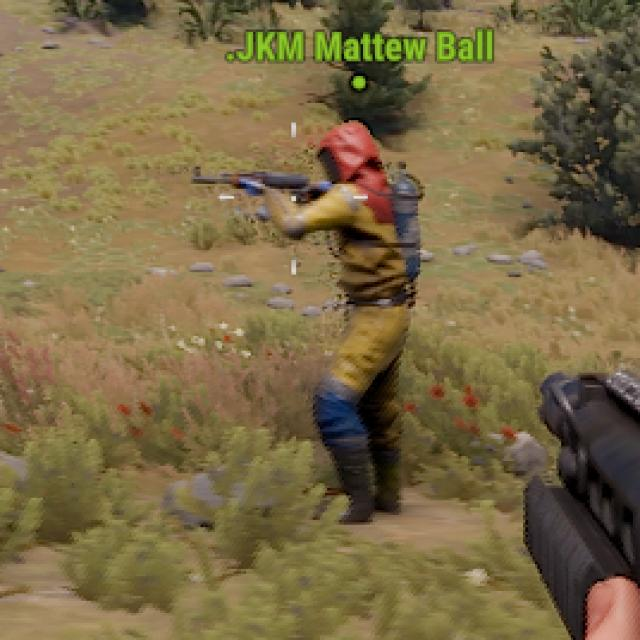Player: (268, 119, 409, 522)
